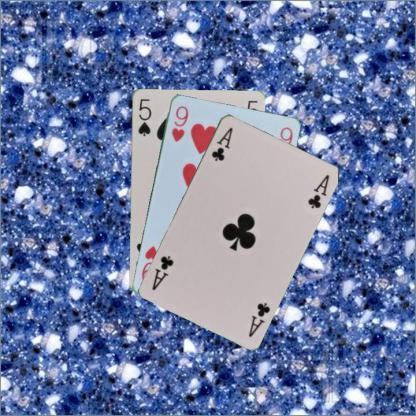5s: (135, 96, 153, 138)
9h: (168, 102, 190, 144)
Ac: (245, 299, 272, 338), (209, 124, 234, 162)
